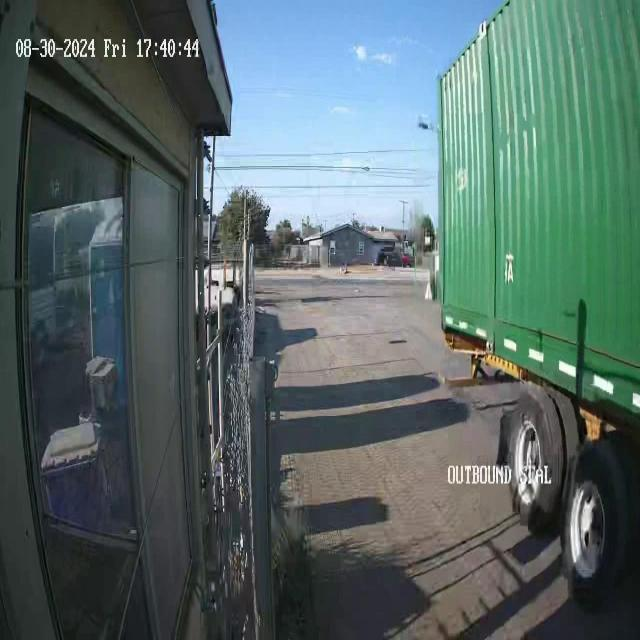TRUCK_IN: (436, 0, 640, 601)
